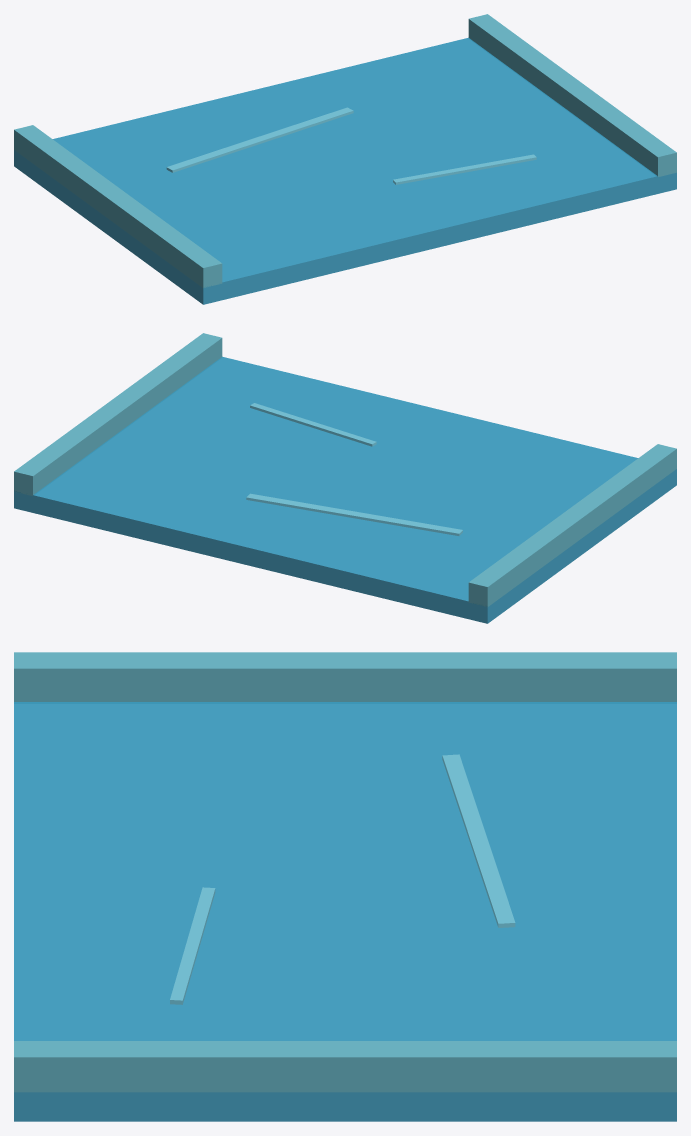
The model's file is track_water_slide_2lane.glb.
3 renders of one model, top to bottom at view 1: azimuth 30°, elevation 25°; view 2: azimuth 150°, elevation 25°; view 3: azimuth 270°, elevation 25°, orthographic. The views are drawn at different scales.
Parts seen in each view (by area): view 1: track_water_slide_2lane; view 2: track_water_slide_2lane; view 3: track_water_slide_2lane.
Boxes of the visible parts, x1,y1,x2,y2 form: track_water_slide_2lane: [14, 14, 676, 304]; track_water_slide_2lane: [14, 333, 676, 623]; track_water_slide_2lane: [14, 652, 676, 1121].
Size of the model in its own units: 4.45 by 0.33 by 3.08.
